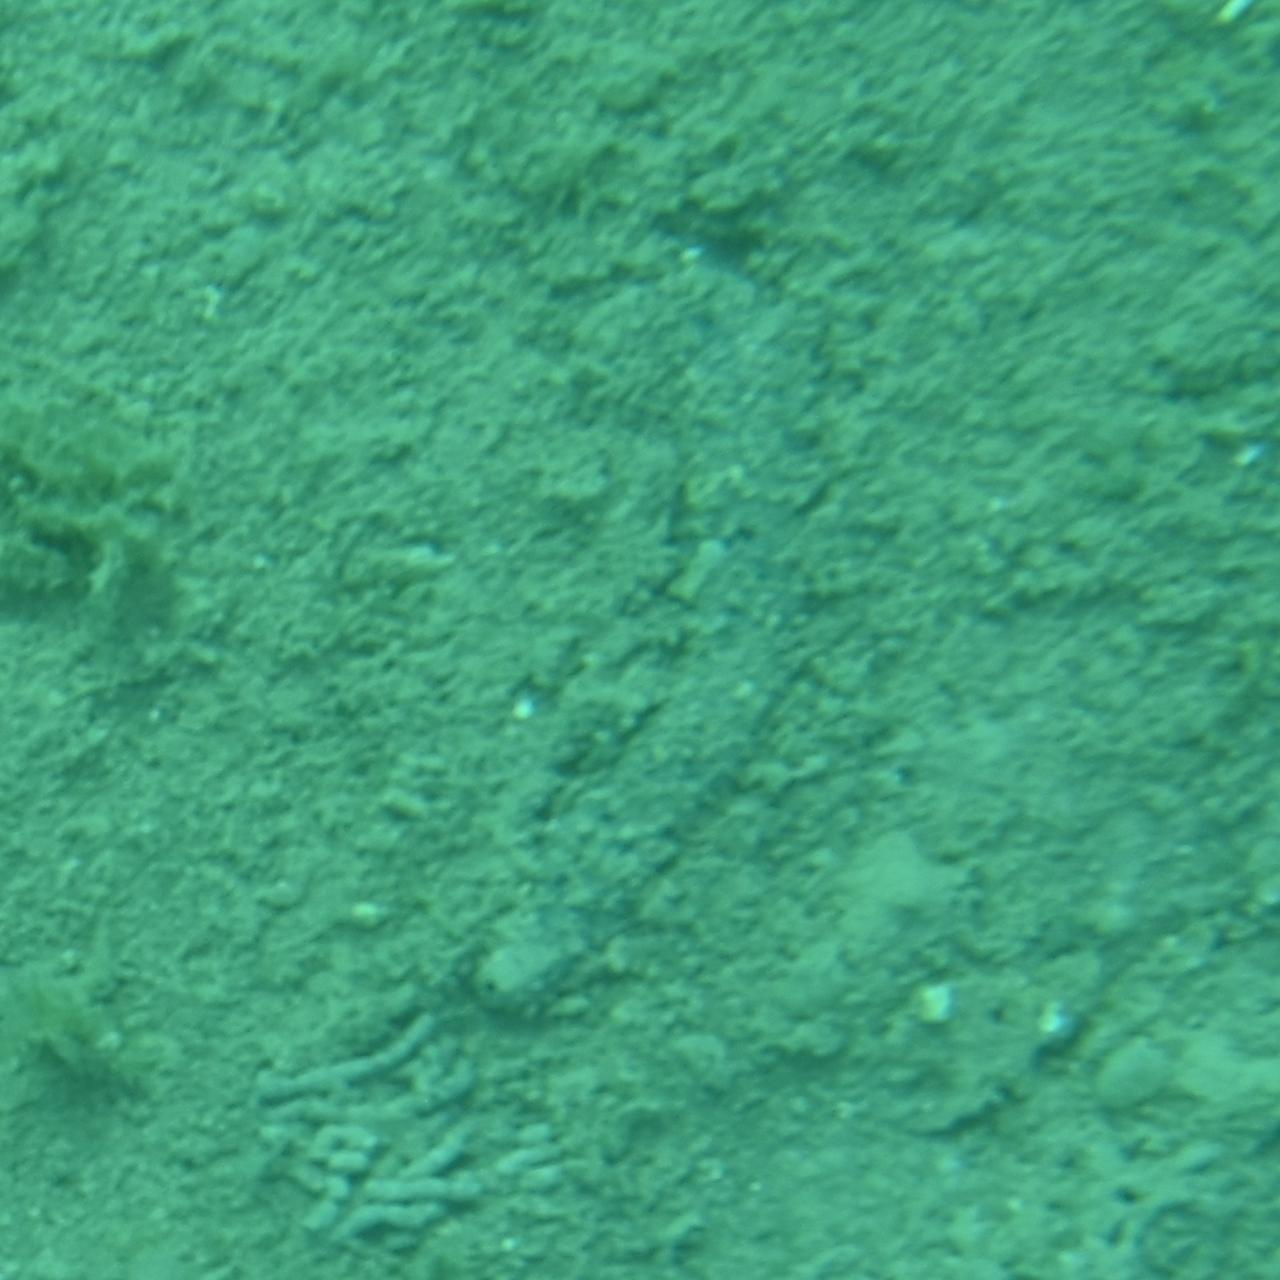Holothuria tubulosa: (451, 255, 829, 1025)
